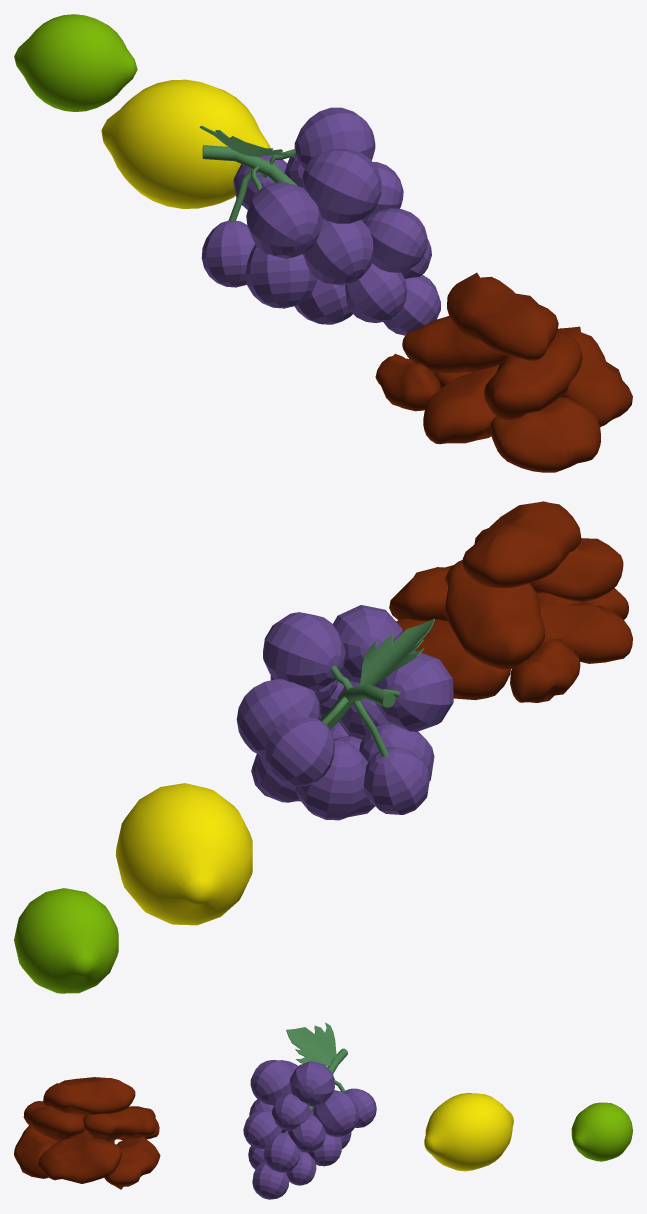
The model's file is Fruits.fbx.
3 views of the same model, one above another, from view 1: azimuth 30°, elevation 25°; view 2: azimuth 150°, elevation 25°; view 3: azimuth 270°, elevation 25° (orthographic). The views are drawn at different scales.
Visible parts, largest first — view 1: Grape, Raisin, Lemon, Lime; view 2: Grape, Raisin, Lemon, Lime; view 3: Grape, Raisin, Lemon, Lime.
Part boxes in pixels (<box>): Grape: <box>199,107,440,335</box>; Raisin: <box>375,272,632,472</box>; Lemon: <box>101,79,270,208</box>; Lime: <box>14,14,137,111</box>; Grape: <box>236,605,453,820</box>; Raisin: <box>389,501,632,702</box>; Lemon: <box>115,783,252,925</box>; Lime: <box>14,888,118,993</box>; Grape: <box>243,1022,376,1199</box>; Raisin: <box>14,1077,160,1189</box>; Lemon: <box>424,1093,513,1171</box>; Lime: <box>571,1102,632,1161</box>.
Size of the model in its own units: 2.35 by 2.2 by 9.67.
Materials: 1 (1 with a texture image).
